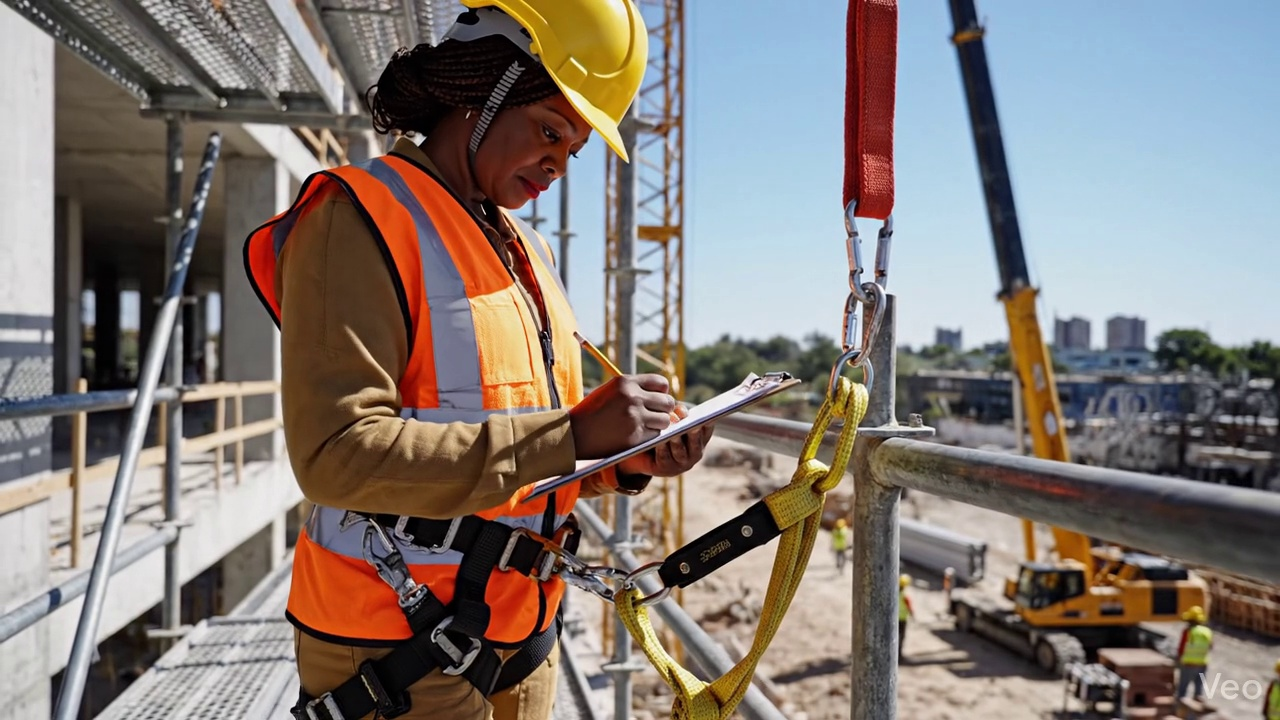p: (245, 0, 711, 719)
